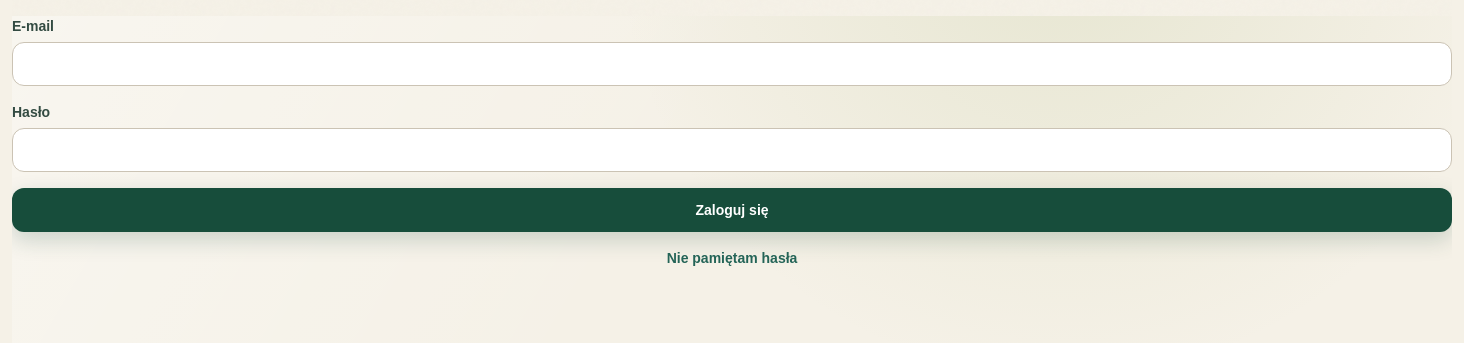
Test: LoginForm › wychodzi ze stanu oczekiwania i wyjaśnia awarię połączenia
The width and height of the screenshot is (1464, 343).
Type "konto@example.com" into the field labelled "E-mail" at (732, 64), box [12,42,1452,86]
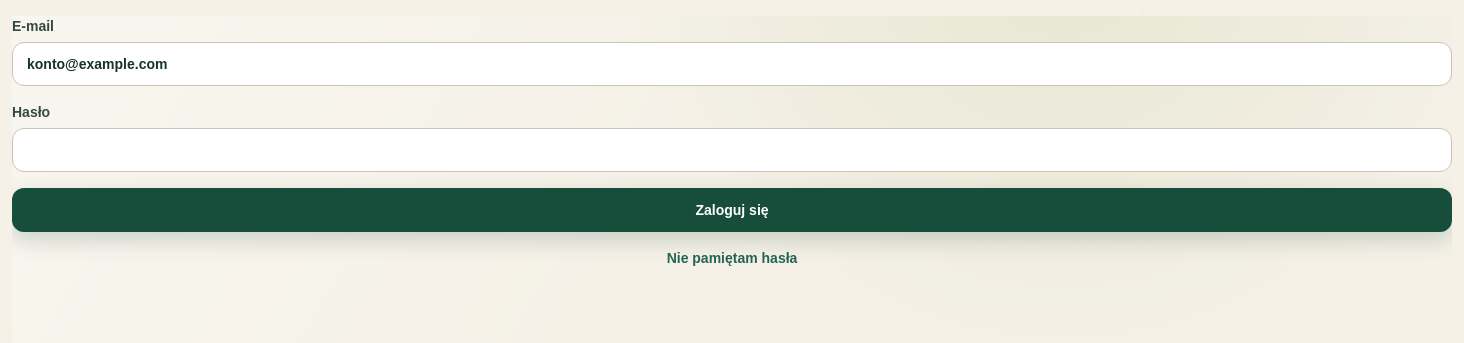
Type "bezpieczne-haslo" into the password field labelled "Hasło" at (732, 150), box [12,128,1452,172]
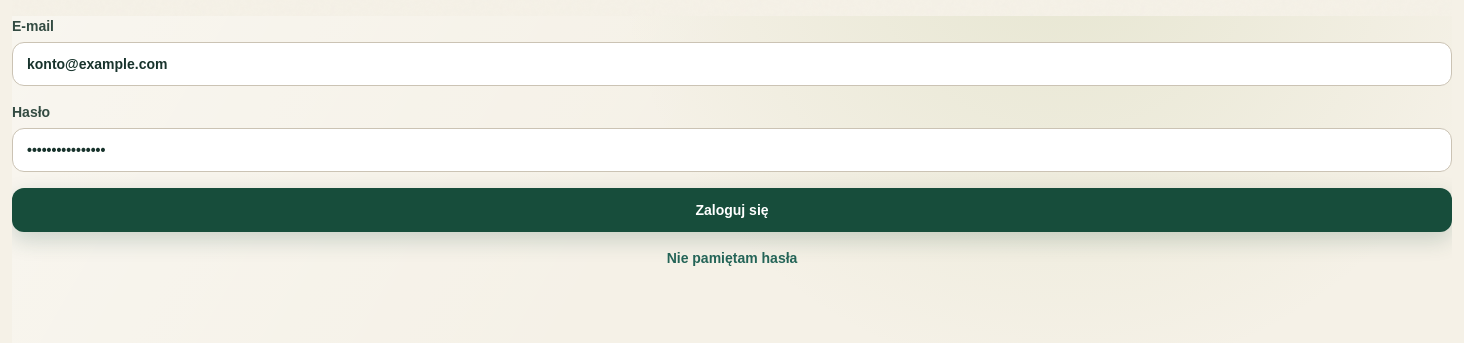
Click the button "Zaloguj się" at (732, 210), box [12,188,1452,232]
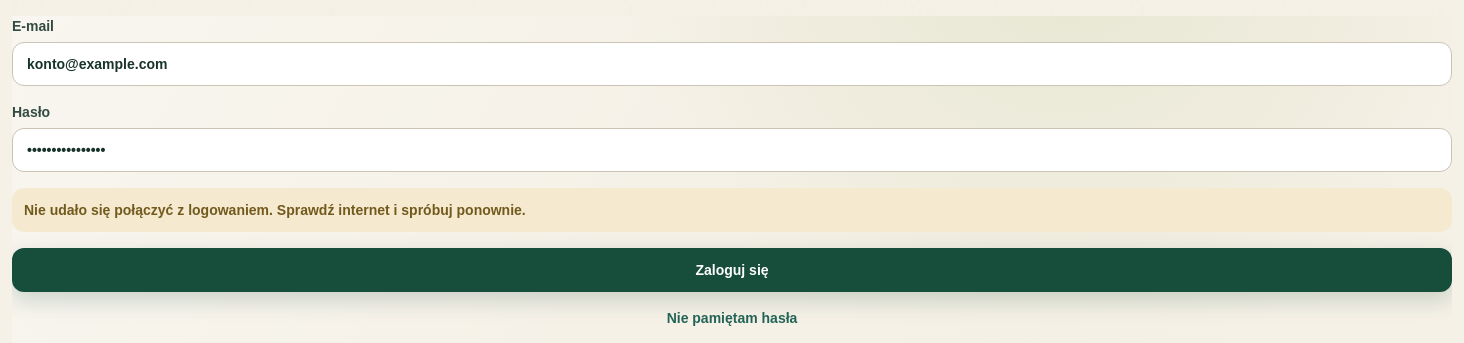
Expected: the button "Zaloguj się" is enabled, [12,248,1452,292]
Now the text "Nie udało się połączyć z logowaniem. Sprawdź internet i spróbuj ponownie." is shown, box [12,188,1452,232]
